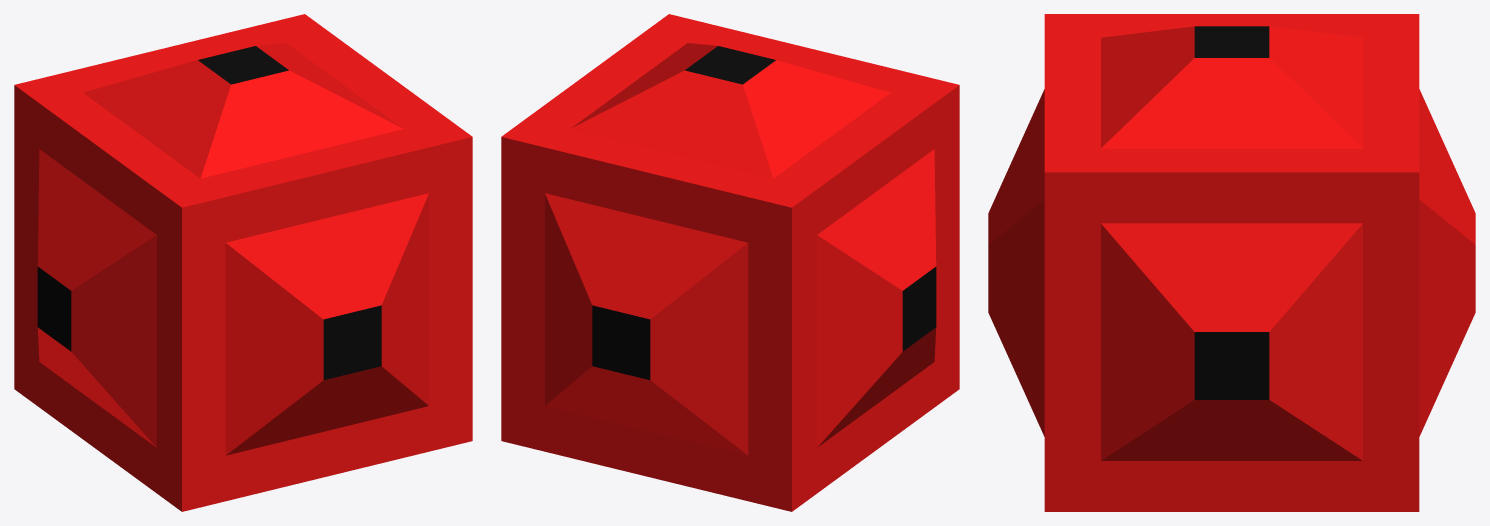
File: Pickup.FBX
3 renders of one model, left to right at view 1: azimuth 30°, elevation 25°; view 2: azimuth 150°, elevation 25°; view 3: azimuth 270°, elevation 25°, orthographic. The views are drawn at different scales.
Visible parts, largest first — view 1: Pickup; view 2: Pickup; view 3: Pickup.
Boxes of the visible parts, box(x1,y1,x2,y2) form: Pickup: box(14, 14, 472, 511); Pickup: box(501, 14, 959, 511); Pickup: box(988, 14, 1475, 511).
Bounding box in the file's own units: 93.19 × 93.19 × 93.19.
